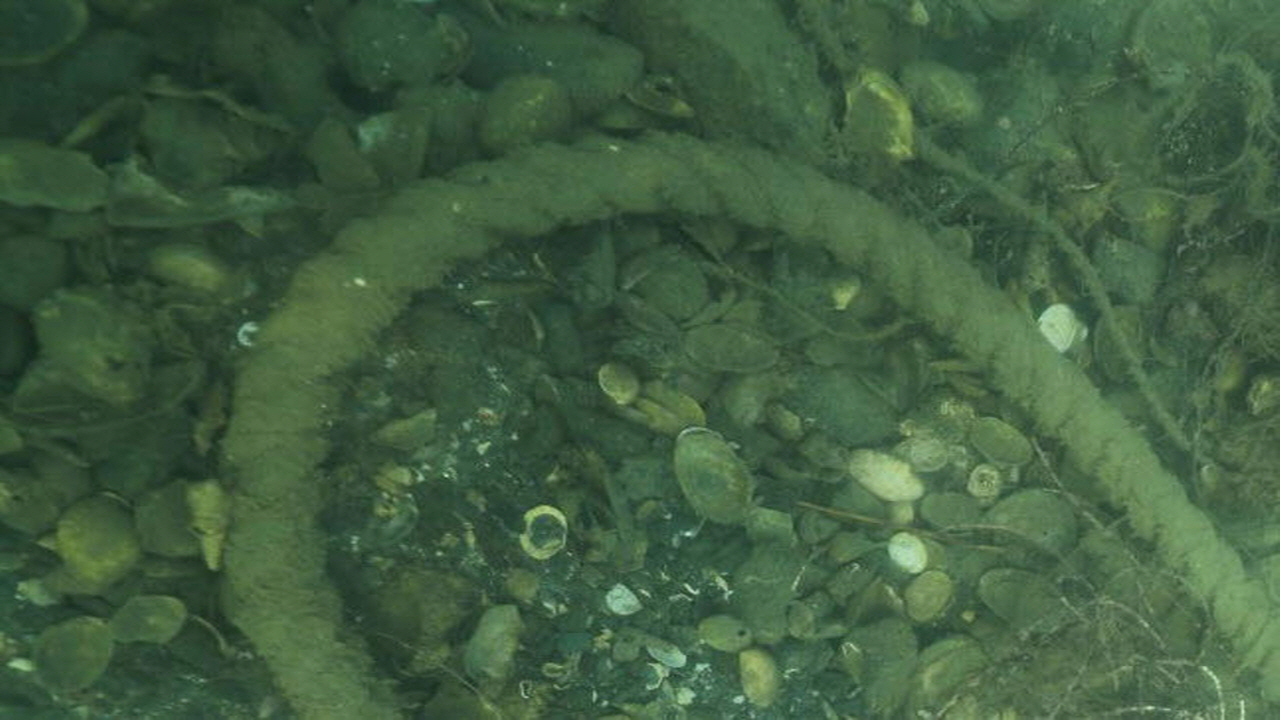rope: (217, 123, 1280, 720)
